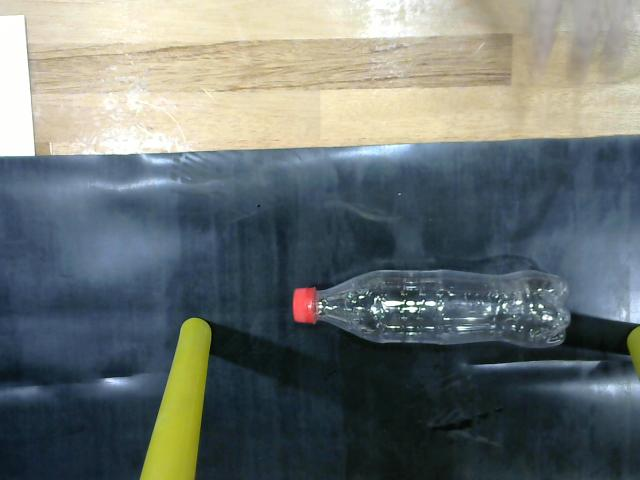bottle: (286, 261, 576, 358)
